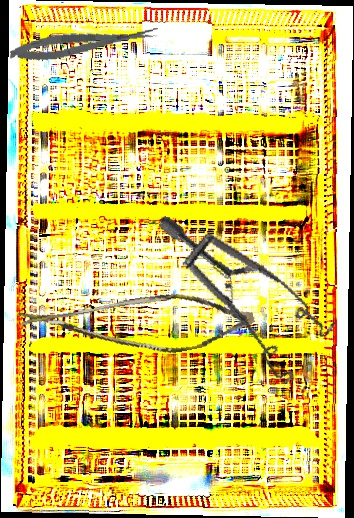Micro Scissor: (11, 269, 258, 382), (8, 22, 160, 66)
Speculum: (127, 215, 352, 393)
